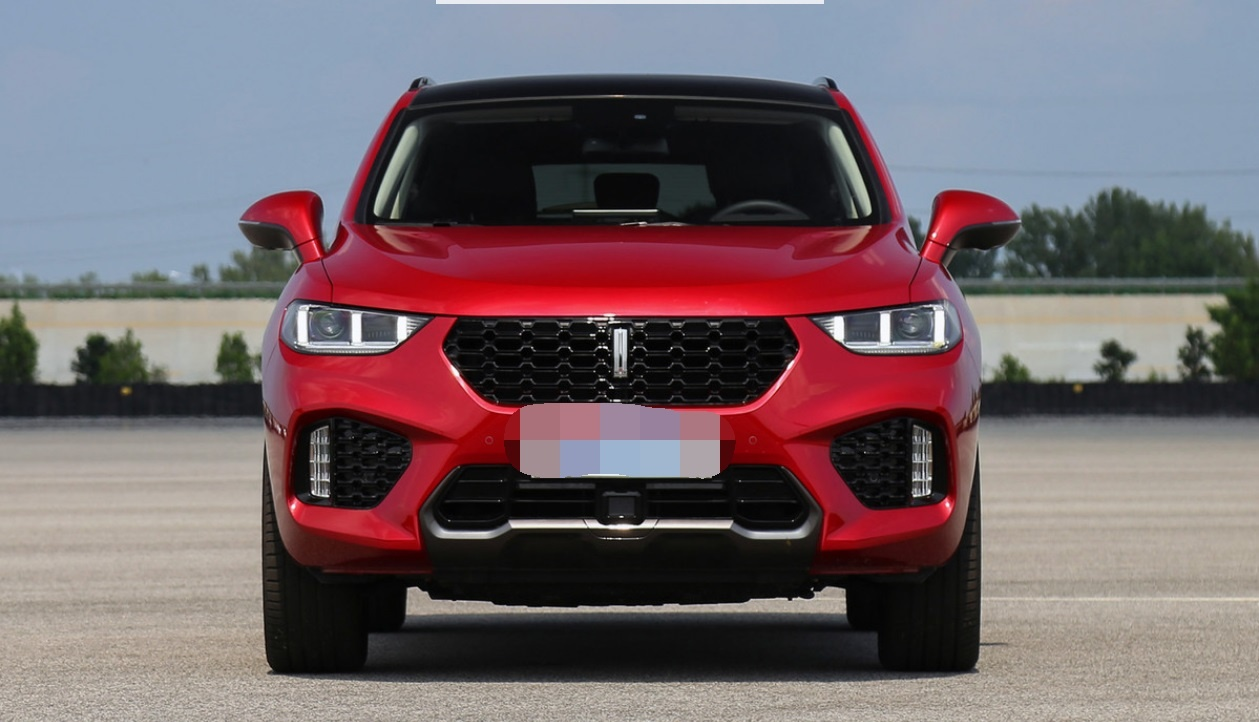SUV: (234, 65, 1021, 679)
